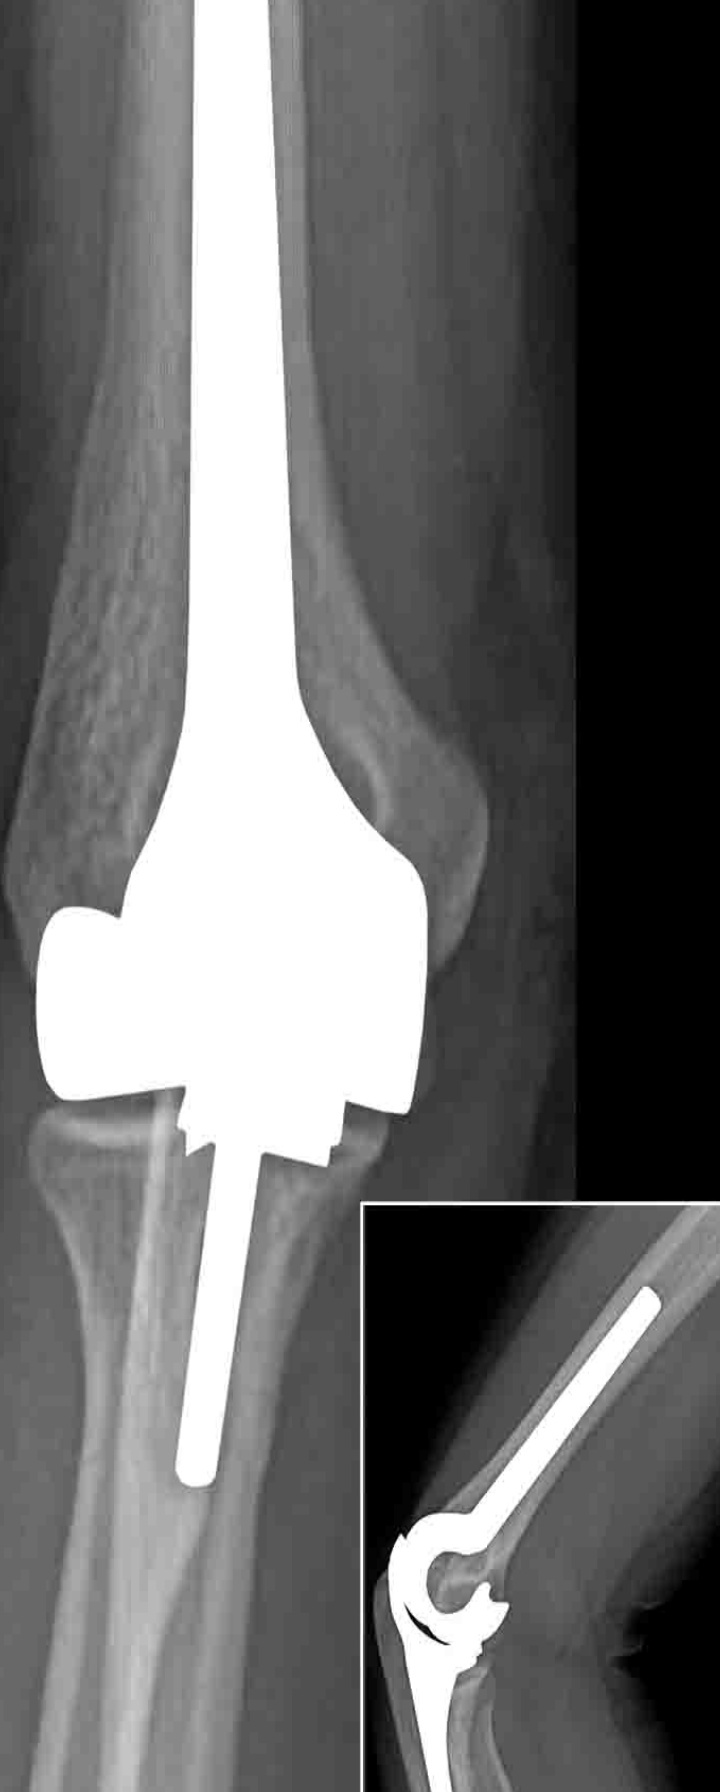Elbow - IBP - Biomet: (29, 1, 456, 1493), (379, 1248, 672, 1792)
